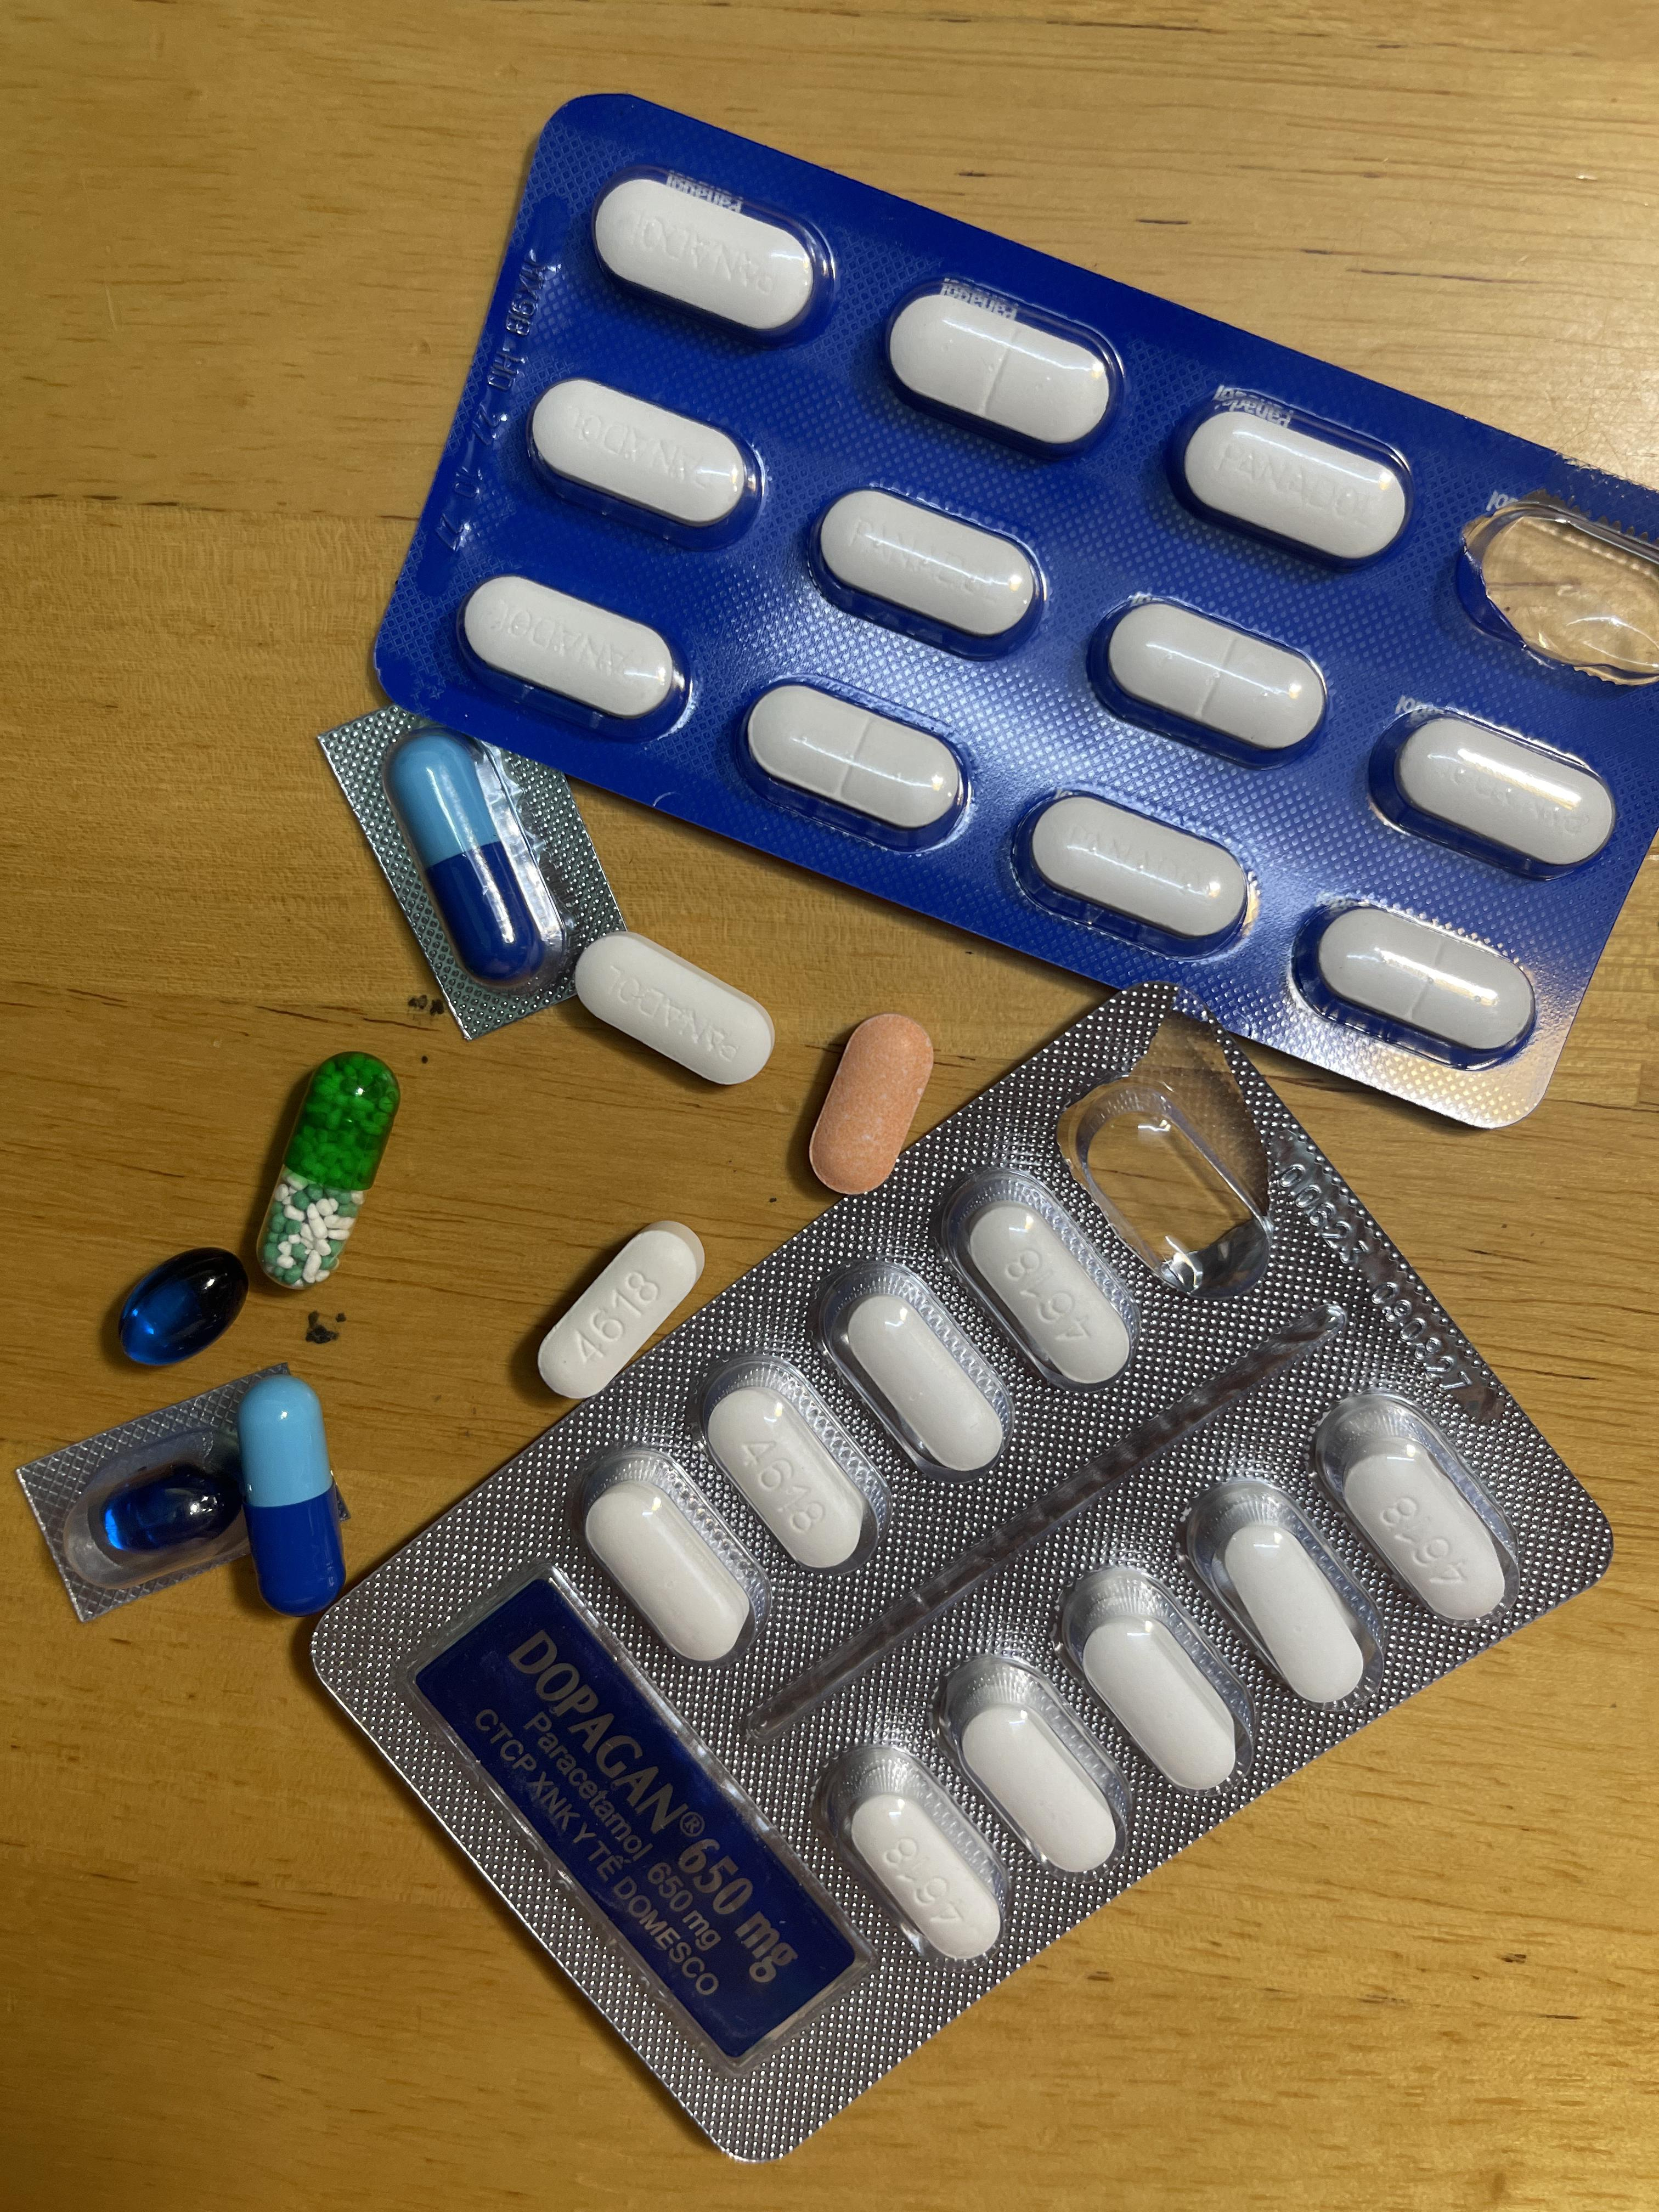Lincomyxin_500mg: (122, 1245, 247, 1362), (103, 1468, 228, 1555)
Loratadine_10mg: (805, 1015, 938, 1191)
Paracetamol_350mg: (589, 164, 843, 350), (1368, 705, 1621, 885), (1166, 385, 1410, 570), (882, 282, 1119, 460), (805, 484, 1044, 655), (1298, 902, 1546, 1062), (528, 376, 760, 545), (1021, 787, 1253, 953), (741, 681, 972, 846), (1089, 596, 1314, 765), (460, 571, 685, 735), (575, 935, 774, 1085)
Paracetamol_500mg: (694, 1346, 890, 1571), (945, 1176, 1134, 1388), (1066, 1594, 1243, 1797), (1338, 1440, 1507, 1625), (535, 1221, 711, 1397), (1215, 1515, 1368, 1716), (836, 1296, 1004, 1474), (587, 1480, 751, 1662), (960, 1691, 1119, 1872), (847, 1789, 999, 1966)
Paracetamol_650mg: (254, 1054, 399, 1291)
pill: (394, 737, 549, 975), (242, 1378, 335, 1609)
